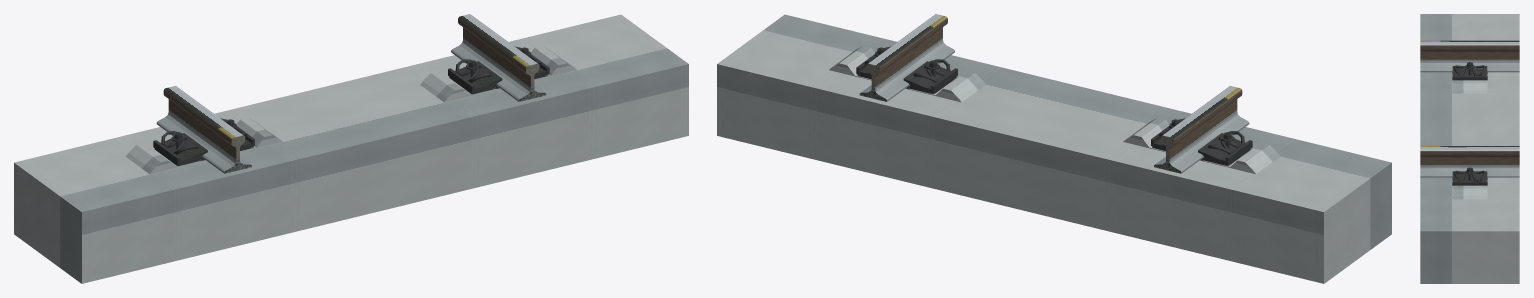
Rendered from slab_high.obj.
3 renders of one model, left to right at view 1: azimuth 30°, elevation 25°; view 2: azimuth 150°, elevation 25°; view 3: azimuth 270°, elevation 25°, orthographic. The views are drawn at different scales.
Visible parts, largest first — view 1: slab_bed, rail_left, rail_right, sleeper, fastener_right, fastener_left; view 2: slab_bed, rail_left, rail_right, sleeper, fastener_right, fastener_left; view 3: slab_bed, rail_left, rail_right, sleeper, fastener_left, fastener_right.
Part boxes in pixels (left/top/right/bottom): slab_bed: left=14, top=14, right=688, bottom=283; rail_left: left=156, top=86, right=250, bottom=173; rail_right: left=451, top=14, right=544, bottom=101; sleeper: left=126, top=45, right=576, bottom=174; fastener_right: left=448, top=46, right=549, bottom=94; fastener_left: left=153, top=118, right=254, bottom=166; slab_bed: left=717, top=14, right=1391, bottom=283; rail_left: left=1155, top=86, right=1249, bottom=173; rail_right: left=861, top=14, right=954, bottom=101; sleeper: left=829, top=45, right=1279, bottom=174; fastener_right: left=856, top=46, right=957, bottom=94; fastener_left: left=1151, top=118, right=1252, bottom=166; slab_bed: left=1420, top=14, right=1519, bottom=283; rail_left: left=1420, top=40, right=1519, bottom=72; rail_right: left=1420, top=146, right=1519, bottom=177; sleeper: left=1452, top=74, right=1487, bottom=199; fastener_left: left=1452, top=62, right=1487, bottom=80; fastener_right: left=1452, top=167, right=1487, bottom=185.
Size of the model in its own units: 3.1 by 0.5324 by 0.6.
